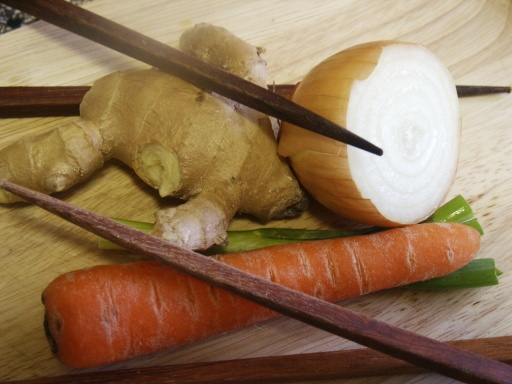background: (0, 23, 403, 182), (33, 67, 229, 221), (74, 13, 215, 53), (0, 11, 25, 122)
